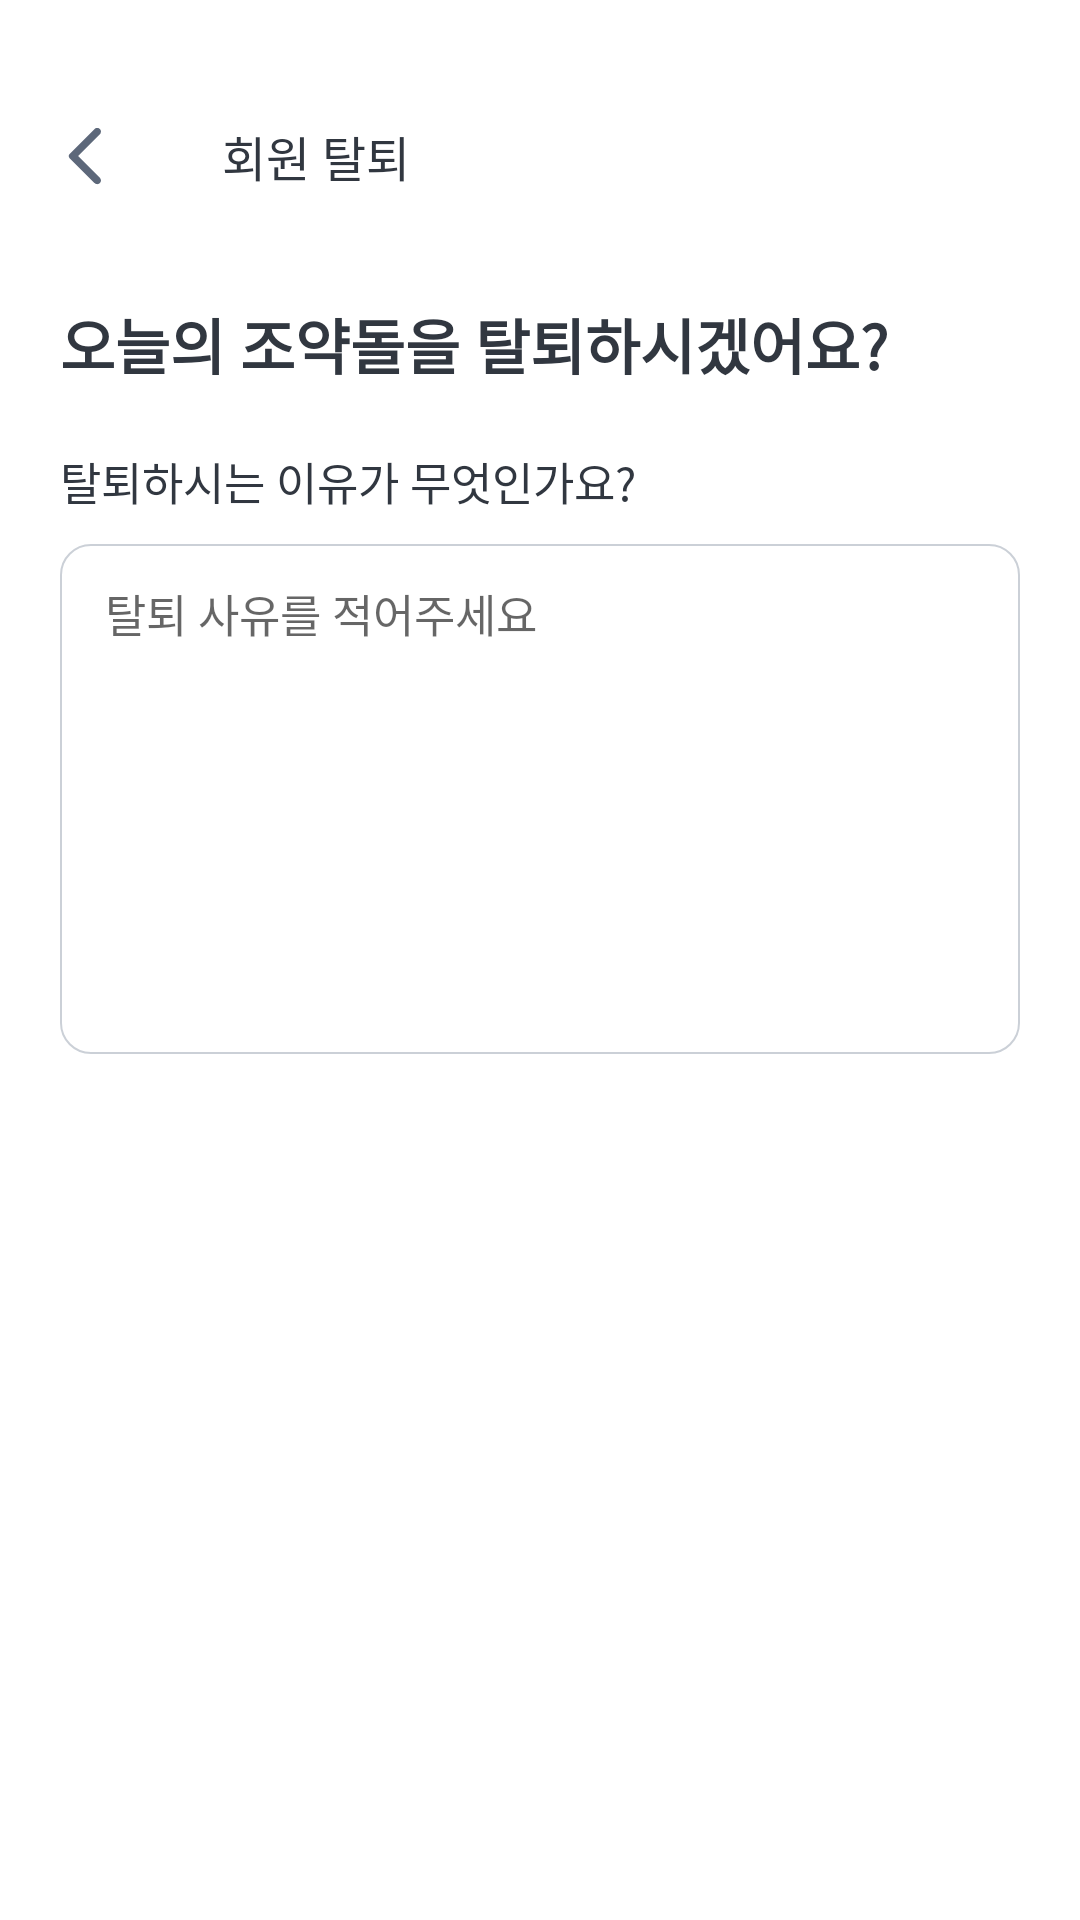

Point at icon controls on the screen. Image size 1080 × 1920, points as point (x, y).
setting back: point (84, 156)
